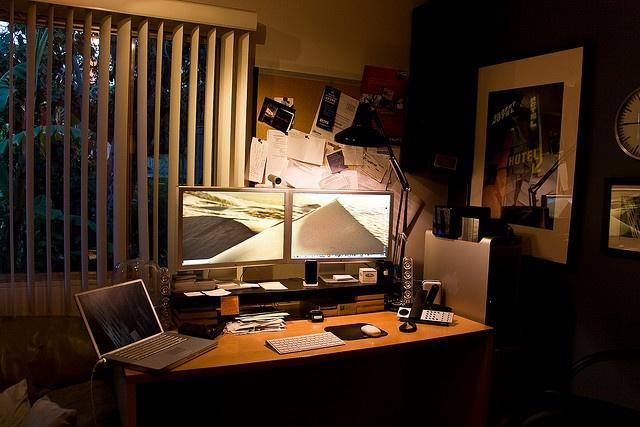AIO PC-Monitor-TV: (174, 184, 289, 271), (286, 188, 393, 265)
